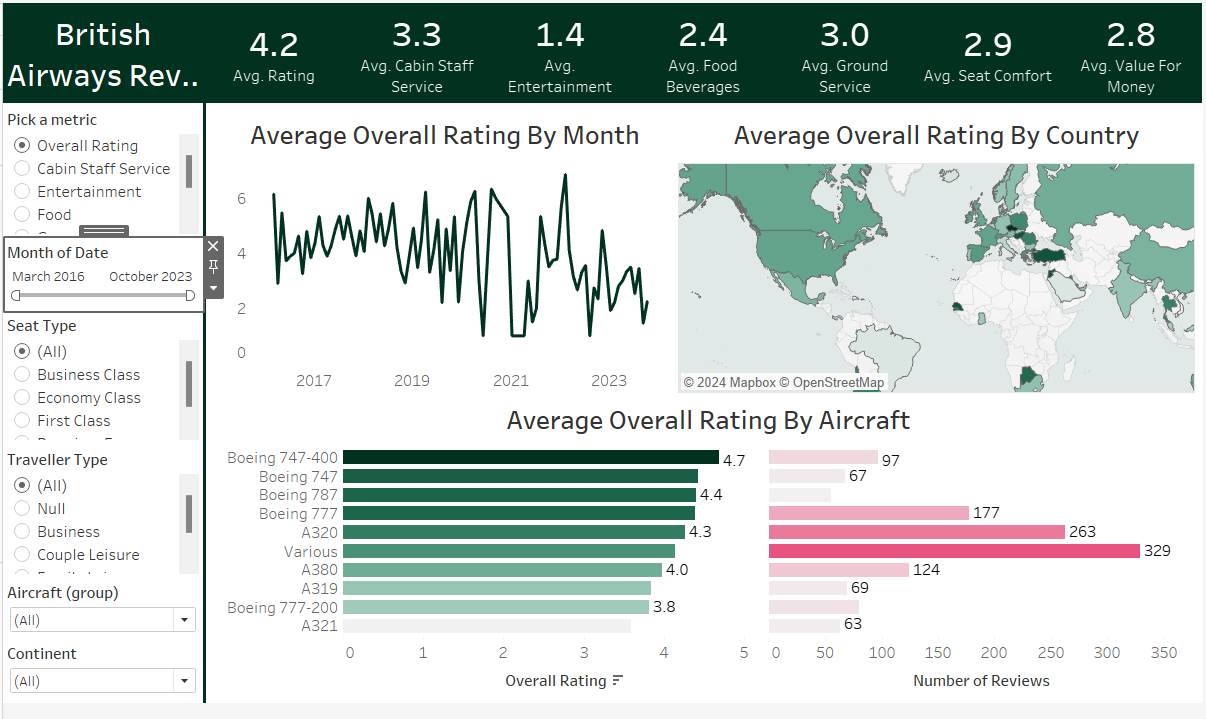

Layout of this report page (visuals, bound fields, positions):
{"tool":"tableau","page":{"name":"Dashboard 1","canvas":[1200,700],"ordinal":0},"visuals":[{"type":"text","box":[0,0,200,100]},{"type":"worksheet","title":"summary","mark":"Automatic","box":[200,0,999,100]},{"type":"blank","box":[200,100,3,600]},{"type":"parameter","param":"[Parameters].[Parameter 1]","box":[0,102,200,133.3]},{"type":"worksheet","title":"Month","mark":"Automatic","rows":["Calculation_467529988195790848"],"cols":["date"],"box":[220,110,444,280]},{"type":"worksheet","title":"Map","mark":"Automatic","box":[675,110,517,280]},{"type":"filter","title":"Map","param":"[federated.1pcnwoo1g4pvph10ksfk00hadk1e].[tmn:date:qk]","box":[0,235.3,200,73]},{"type":"filter","title":"Map","param":"[federated.1pcnwoo1g4pvph10ksfk00hadk1e].[none:seat_type:nk]","box":[0,308.3,200,133.3]},{"type":"worksheet","title":"Aircraft","mark":"Automatic","cols":["Calculation_467529988195790848","ba_reviews.csv_693B5AD7C0CC43C9AB5E245D8FB67E5F"],"box":[220,395,971,300]},{"type":"filter","title":"Map","param":"[federated.1pcnwoo1g4pvph10ksfk00hadk1e].[none:traveller_type:nk]","box":[0,441.7,200,133.3]},{"type":"filter","title":"Map","param":"[federated.1pcnwoo1g4pvph10ksfk00hadk1e].[Aircraft (group)]","box":[0,575,200,61]},{"type":"filter","title":"Map","param":"[federated.1pcnwoo1g4pvph10ksfk00hadk1e].[none:Continent:nk]","box":[0,636,200,61]}]}

Visuals, with their boxes in screenshot pixels (x1, y1, x2, y2), scaled from the page's 1200x700 canvas onto the 1206x719 screenshot:
text: x1=0, y1=0, x2=201, y2=103
"summary" worksheet: x1=201, y1=0, x2=1205, y2=103
blank: x1=201, y1=103, x2=204, y2=718
parameter: x1=0, y1=105, x2=201, y2=242
"Month" worksheet: x1=221, y1=113, x2=667, y2=401
"Map" worksheet: x1=678, y1=113, x2=1198, y2=401
"Map" filter: x1=0, y1=242, x2=201, y2=317
"Map" filter: x1=0, y1=317, x2=201, y2=454
"Aircraft" worksheet: x1=221, y1=406, x2=1197, y2=714
"Map" filter: x1=0, y1=454, x2=201, y2=591
"Map" filter: x1=0, y1=591, x2=201, y2=653
"Map" filter: x1=0, y1=653, x2=201, y2=716
